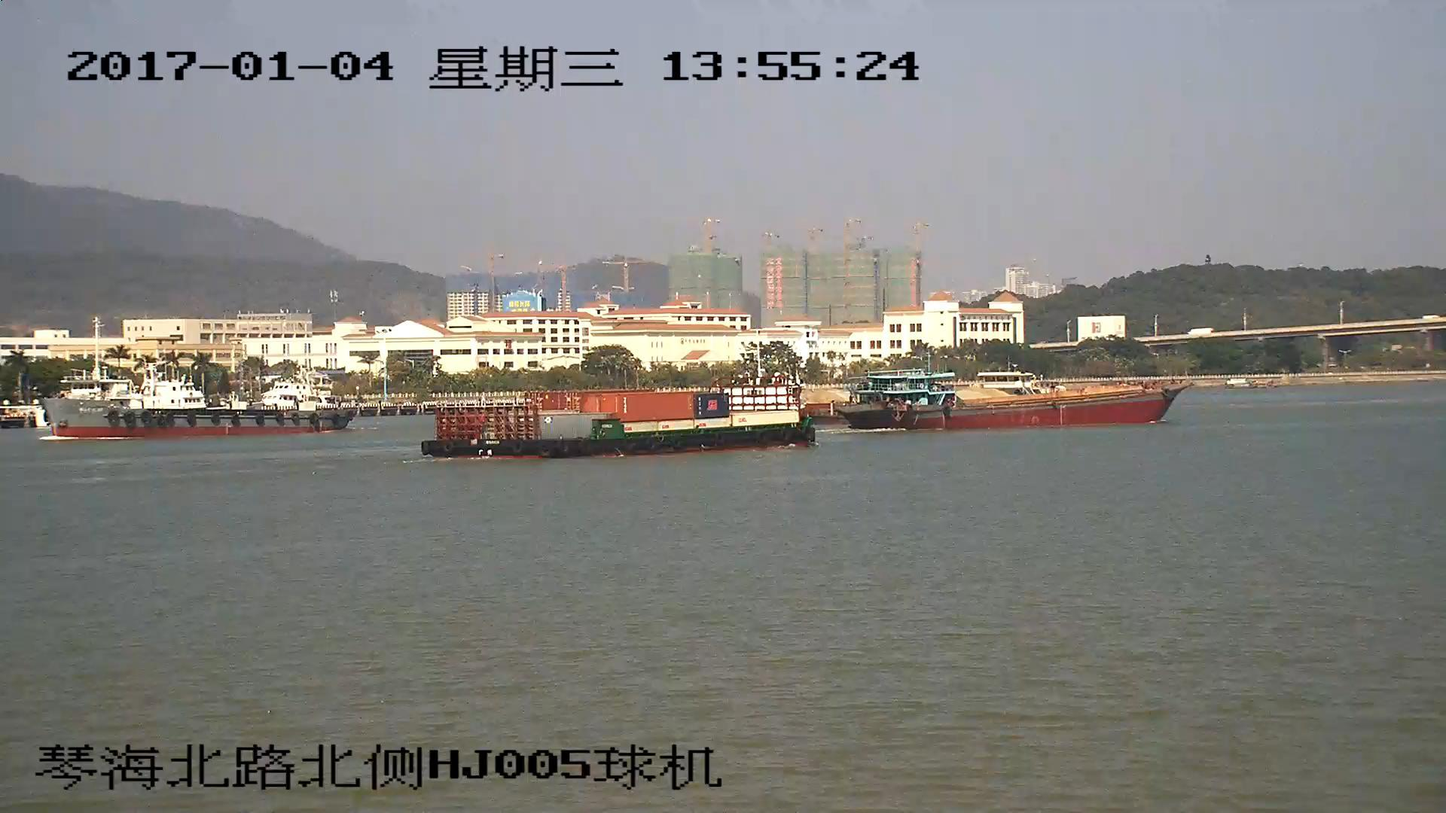bulk cargo carrier: (842, 373, 1187, 428)
container ship: (420, 383, 812, 456)
general cargo ship: (41, 373, 353, 437)
